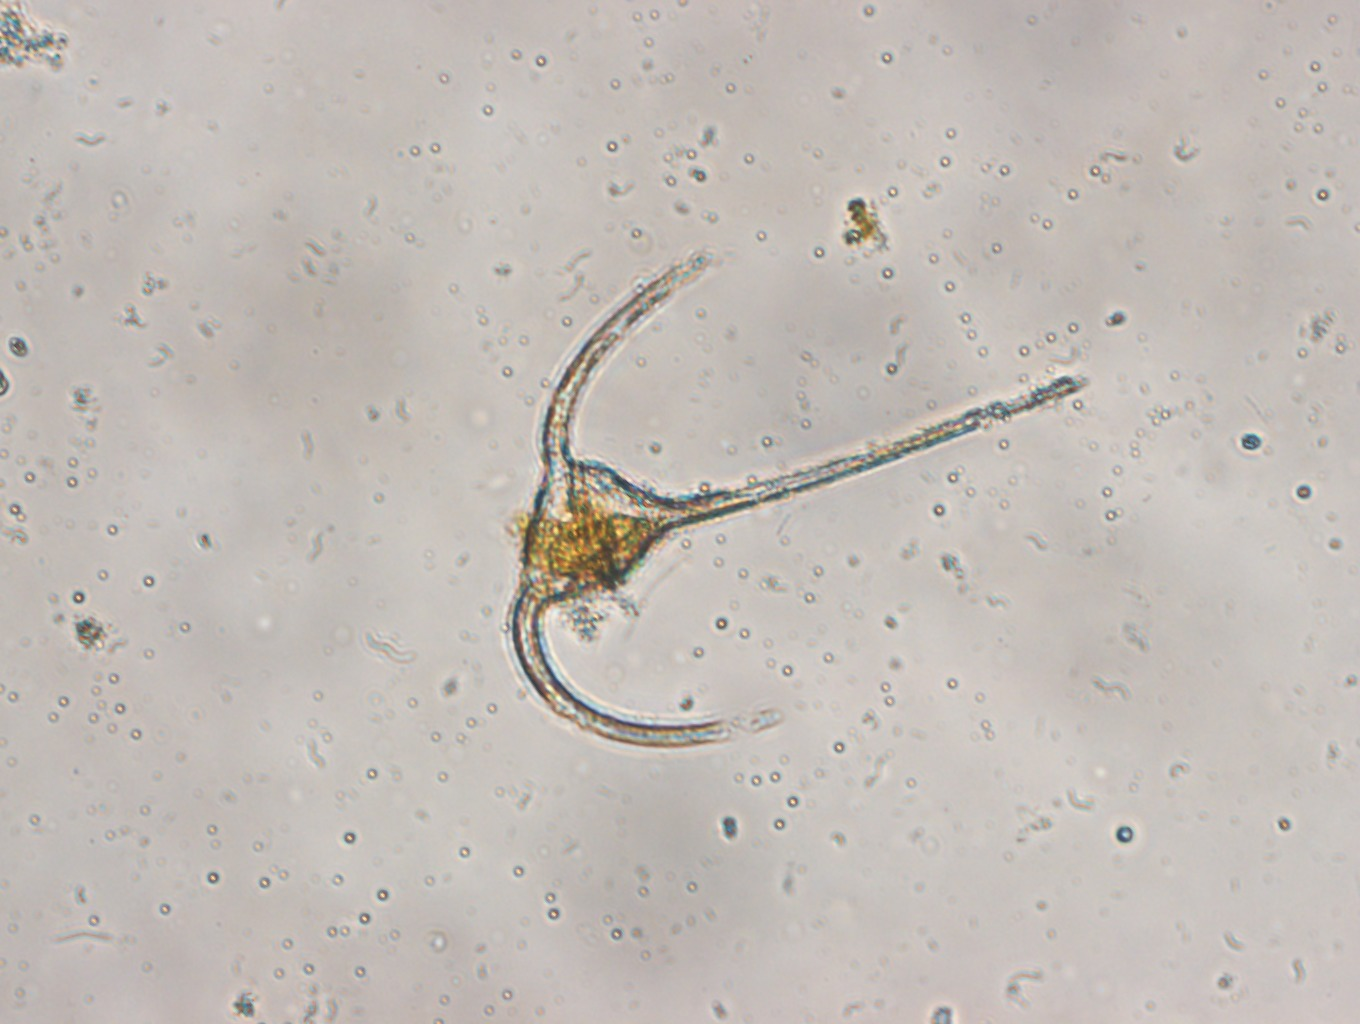ceratium trichoceros: (493, 232, 1096, 756)
